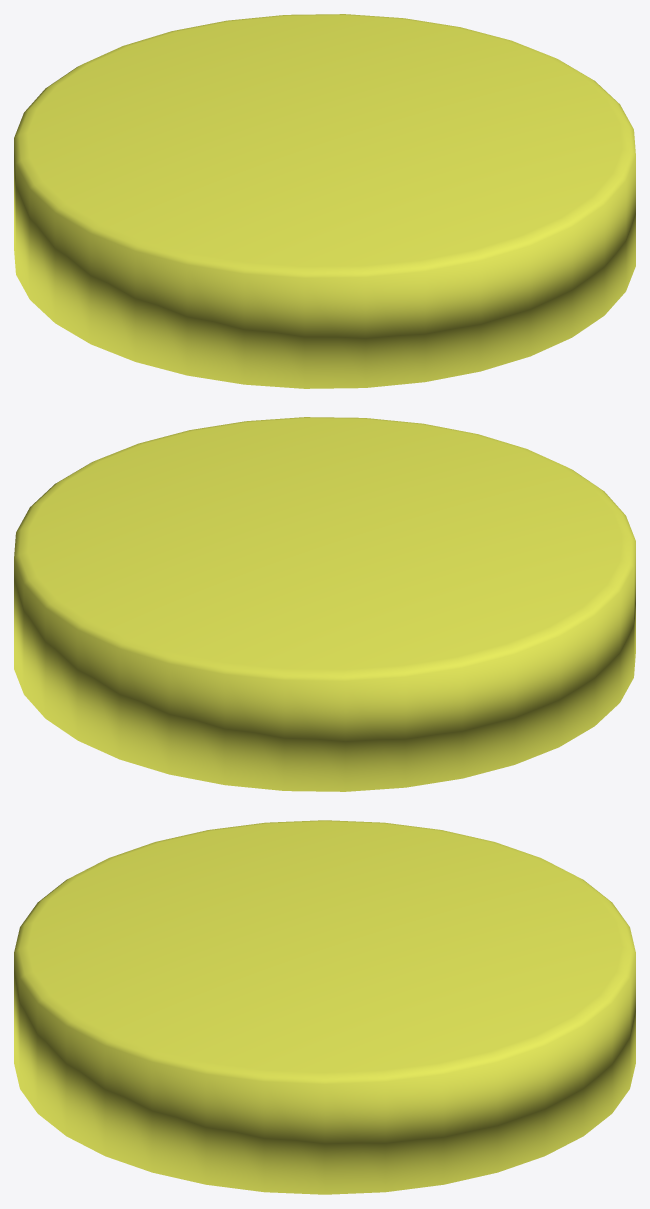
Rendered from WheelOfCheese.fbx.
3 views of the same model, one above another, from view 1: azimuth 30°, elevation 25°; view 2: azimuth 150°, elevation 25°; view 3: azimuth 270°, elevation 25° (orthographic).
Parts seen in each view (by area): view 1: Cylinder; view 2: Cylinder; view 3: Cylinder.
Boxes of the visible parts, bbox=[...] form: Cylinder: bbox=[14, 14, 635, 388]; Cylinder: bbox=[14, 417, 635, 791]; Cylinder: bbox=[14, 820, 635, 1194].
Size of the model in its own units: 259 by 53.47 by 259.
